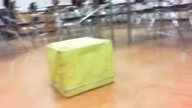cube: (46, 37, 112, 97)
